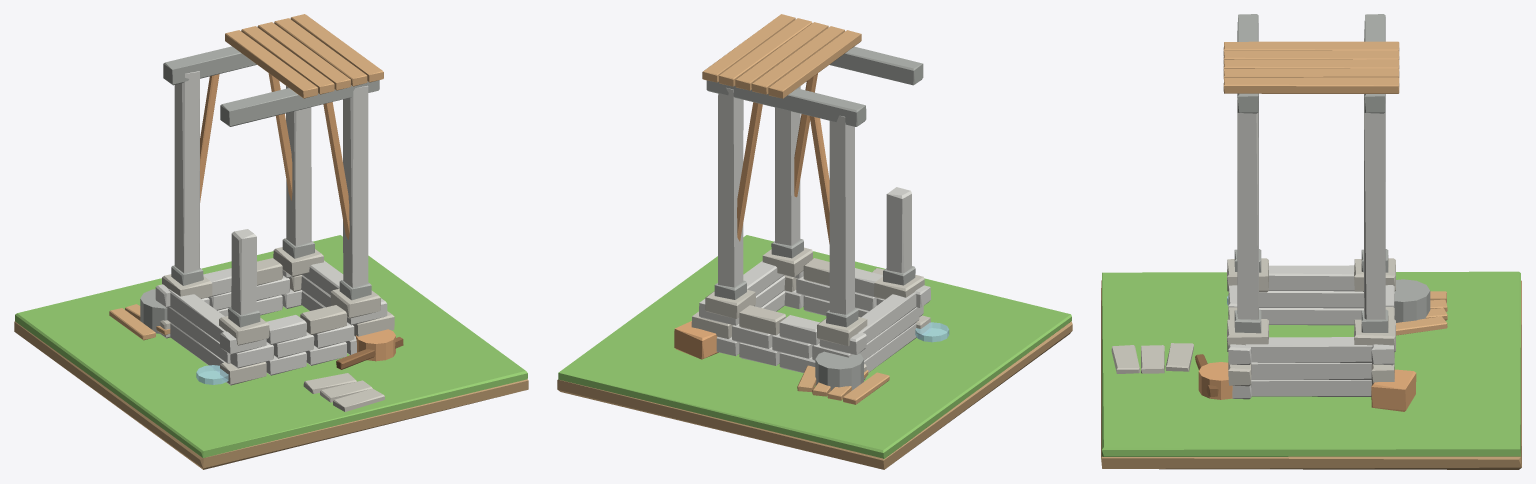
The model's file is tower_l05_damaged_LOD1.glb.
The picture shows the model from 3 angles, left to right: view 1: azimuth 30°, elevation 25°; view 2: azimuth 150°, elevation 25°; view 3: azimuth 270°, elevation 25°; orthographic projection. The views are drawn at different scales.
Visible parts, largest first — view 1: tower_l05_grass_tile_tower_l05_damaged_LOD1_tmp, tower_l05_earth_tile_tower_l05_damaged_LOD1_tmp, post_-0.61_0.54_tower_l05_damaged_LOD1_tmp, post_0.61_-0.54_tower_l05_damaged_LOD1_tmp, post_0.61_0.54_tower_l05_damaged_LOD1_tmp, deck_bearer_-0.54_tower_l05_damaged_LOD1_tmp, post_-0.61_-0.54_tower_l05_damaged_LOD1_tmp, deck_bearer_0.54_tower_l05_damaged_LOD1_tmp, deck_board_4_tower_l05_damaged_LOD1_tmp, deck_board_7_tower_l05_damaged_LOD1_tmp, deck_board_6_tower_l05_damaged_LOD1_tmp, deck_board_5_tower_l05_damaged_LOD1_tmp (+32 smaller); view 2: tower_l05_grass_tile_tower_l05_damaged_LOD1_tmp, tower_l05_earth_tile_tower_l05_damaged_LOD1_tmp, post_-0.61_0.54_tower_l05_damaged_LOD1_tmp, post_0.61_0.54_tower_l05_damaged_LOD1_tmp, post_0.61_-0.54_tower_l05_damaged_LOD1_tmp, deck_bearer_0.54_tower_l05_damaged_LOD1_tmp, post_-0.61_-0.54_tower_l05_damaged_LOD1_tmp, deck_bearer_-0.54_tower_l05_damaged_LOD1_tmp, deck_board_4_tower_l05_damaged_LOD1_tmp, fallen_relay_tower_l05_damaged_LOD1_tmp, deck_board_7_tower_l05_damaged_LOD1_tmp, deck_board_5_tower_l05_damaged_LOD1_tmp (+26 smaller); view 3: tower_l05_grass_tile_tower_l05_damaged_LOD1_tmp, tower_l05_earth_tile_tower_l05_damaged_LOD1_tmp, post_0.61_-0.54_tower_l05_damaged_LOD1_tmp, post_0.61_0.54_tower_l05_damaged_LOD1_tmp, deck_board_8_tower_l05_damaged_LOD1_tmp, stone_return_2_0.72_tower_l05_damaged_LOD1_tmp, stone_return_2_-0.72_tower_l05_damaged_LOD1_tmp, stone_return_1_0.72_tower_l05_damaged_LOD1_tmp, stone_return_0_0.72_tower_l05_damaged_LOD1_tmp, stone_return_1_-0.72_tower_l05_damaged_LOD1_tmp, deck_board_5_tower_l05_damaged_LOD1_tmp, deck_board_7_tower_l05_damaged_LOD1_tmp (+21 smaller).
Part boxes in pixels (left/top/right/bottom): tower_l05_grass_tile_tower_l05_damaged_LOD1_tmp: left=15, top=235, right=527, bottom=457; tower_l05_earth_tile_tower_l05_damaged_LOD1_tmp: left=14, top=321, right=528, bottom=469; post_-0.61_0.54_tower_l05_damaged_LOD1_tmp: left=174, top=71, right=199, bottom=273; post_0.61_-0.54_tower_l05_damaged_LOD1_tmp: left=343, top=85, right=368, bottom=287; post_0.61_0.54_tower_l05_damaged_LOD1_tmp: left=286, top=86, right=311, bottom=246; deck_bearer_-0.54_tower_l05_damaged_LOD1_tmp: left=220, top=80, right=379, bottom=126; post_-0.61_-0.54_tower_l05_damaged_LOD1_tmp: left=231, top=229, right=256, bottom=314; deck_bearer_0.54_tower_l05_damaged_LOD1_tmp: left=163, top=46, right=256, bottom=85; deck_board_4_tower_l05_damaged_LOD1_tmp: left=225, top=30, right=318, bottom=98; deck_board_7_tower_l05_damaged_LOD1_tmp: left=274, top=18, right=367, bottom=86; deck_board_6_tower_l05_damaged_LOD1_tmp: left=257, top=22, right=350, bottom=90; deck_board_5_tower_l05_damaged_LOD1_tmp: left=241, top=26, right=334, bottom=94; tower_l05_grass_tile_tower_l05_damaged_LOD1_tmp: left=558, top=235, right=1071, bottom=458; tower_l05_earth_tile_tower_l05_damaged_LOD1_tmp: left=557, top=321, right=1072, bottom=469; post_-0.61_0.54_tower_l05_damaged_LOD1_tmp: left=829, top=115, right=854, bottom=314; post_0.61_0.54_tower_l05_damaged_LOD1_tmp: left=718, top=87, right=743, bottom=287; post_0.61_-0.54_tower_l05_damaged_LOD1_tmp: left=775, top=86, right=800, bottom=245; deck_bearer_0.54_tower_l05_damaged_LOD1_tmp: left=706, top=80, right=866, bottom=126; post_-0.61_-0.54_tower_l05_damaged_LOD1_tmp: left=886, top=187, right=911, bottom=272; deck_bearer_-0.54_tower_l05_damaged_LOD1_tmp: left=829, top=46, right=923, bottom=85; deck_board_4_tower_l05_damaged_LOD1_tmp: left=768, top=30, right=861, bottom=98; fallen_relay_tower_l05_damaged_LOD1_tmp: left=815, top=351, right=863, bottom=390; deck_board_7_tower_l05_damaged_LOD1_tmp: left=719, top=18, right=812, bottom=86; deck_board_5_tower_l05_damaged_LOD1_tmp: left=751, top=26, right=844, bottom=94; tower_l05_grass_tile_tower_l05_damaged_LOD1_tmp: left=1102, top=271, right=1520, bottom=456; tower_l05_earth_tile_tower_l05_damaged_LOD1_tmp: left=1101, top=280, right=1521, bottom=469; post_0.61_-0.54_tower_l05_damaged_LOD1_tmp: left=1237, top=93, right=1258, bottom=319; post_0.61_0.54_tower_l05_damaged_LOD1_tmp: left=1364, top=94, right=1385, bottom=319; deck_board_8_tower_l05_damaged_LOD1_tmp: left=1223, top=77, right=1399, bottom=93; stone_return_2_0.72_tower_l05_damaged_LOD1_tmp: left=1245, top=337, right=1372, bottom=362; stone_return_2_-0.72_tower_l05_damaged_LOD1_tmp: left=1269, top=265, right=1354, bottom=291; stone_return_1_0.72_tower_l05_damaged_LOD1_tmp: left=1251, top=362, right=1371, bottom=379; stone_return_0_0.72_tower_l05_damaged_LOD1_tmp: left=1251, top=379, right=1371, bottom=396; stone_return_1_-0.72_tower_l05_damaged_LOD1_tmp: left=1259, top=291, right=1363, bottom=308; deck_board_5_tower_l05_damaged_LOD1_tmp: left=1223, top=50, right=1399, bottom=64; deck_board_7_tower_l05_damaged_LOD1_tmp: left=1223, top=68, right=1399, bottom=78.
Bounding box in the file's own units: 3.6 × 3.17 × 3.58.
